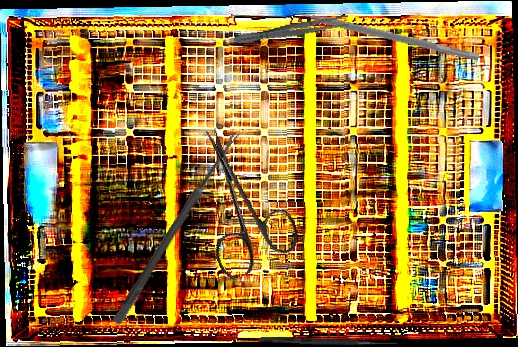Dressing Forceps: (233, 12, 350, 48)
Hook Surgical: (260, 336, 398, 347)
Iris Scissors: (169, 113, 306, 283)
Spatula Surgical: (282, 0, 482, 62)
Surgical Spoon: (112, 129, 241, 326)
